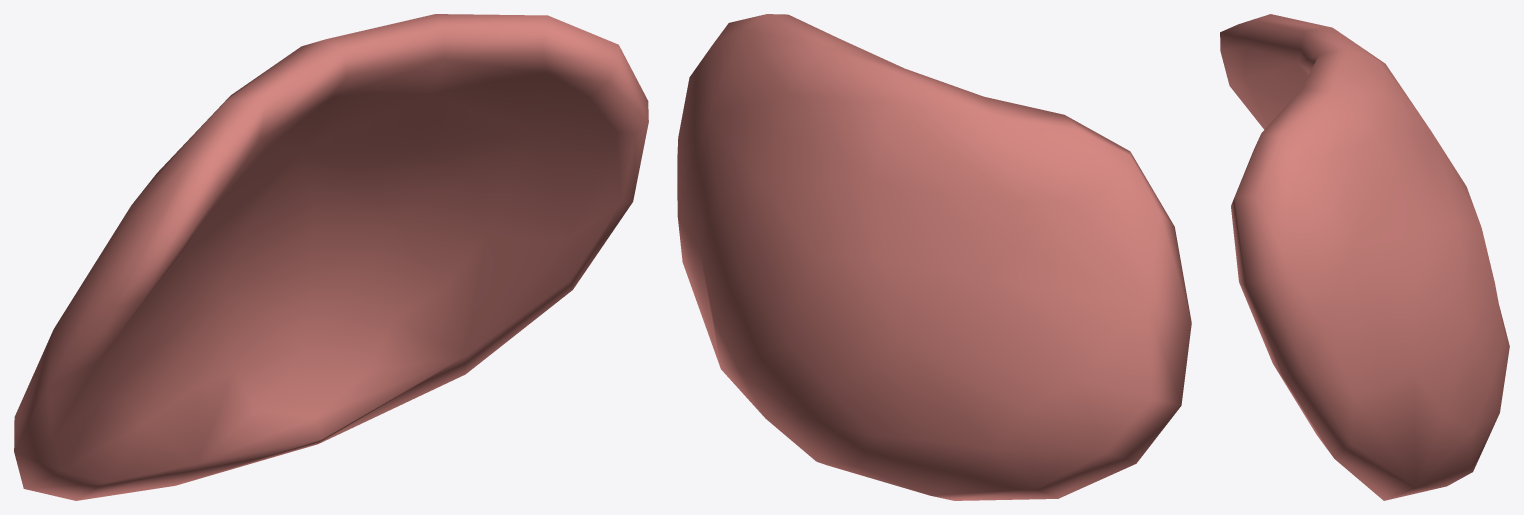
3 views of the same model, side by side, from view 1: azimuth 30°, elevation 25°; view 2: azimuth 150°, elevation 25°; view 3: azimuth 270°, elevation 25° (orthographic). The views are drawn at different scales.
Parts seen in each view (by area): view 1: ZA_c9a7cec2cee318aa; view 2: ZA_c9a7cec2cee318aa; view 3: ZA_c9a7cec2cee318aa.
Boxes of the visible parts, <box> form: ZA_c9a7cec2cee318aa: <box>14,14,648,500</box>; ZA_c9a7cec2cee318aa: <box>677,14,1191,500</box>; ZA_c9a7cec2cee318aa: <box>1220,14,1509,500</box>.
Bounding box in the file's own units: 0.00502 × 0.00359 × 0.00213.
